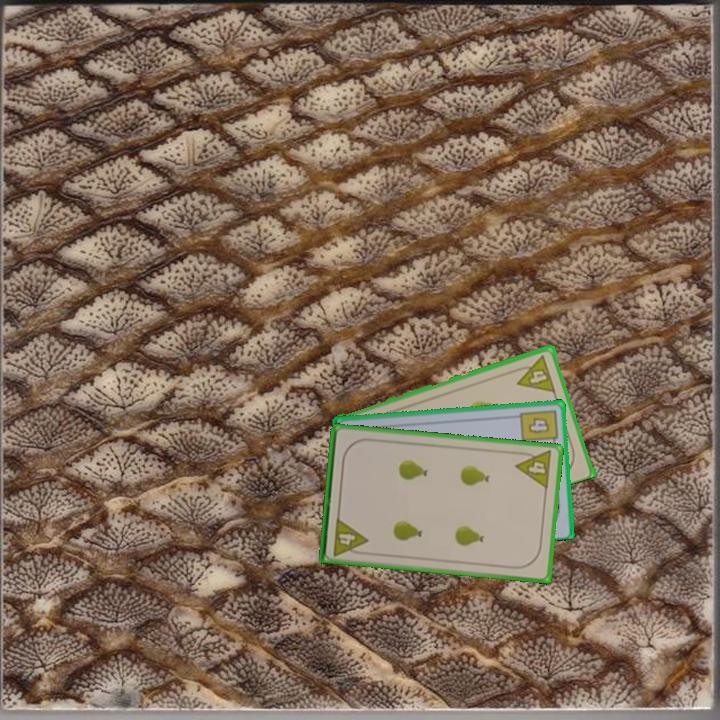4b: (516, 406, 560, 449)
4p: (511, 351, 558, 395), (512, 447, 555, 492), (330, 514, 370, 559)
